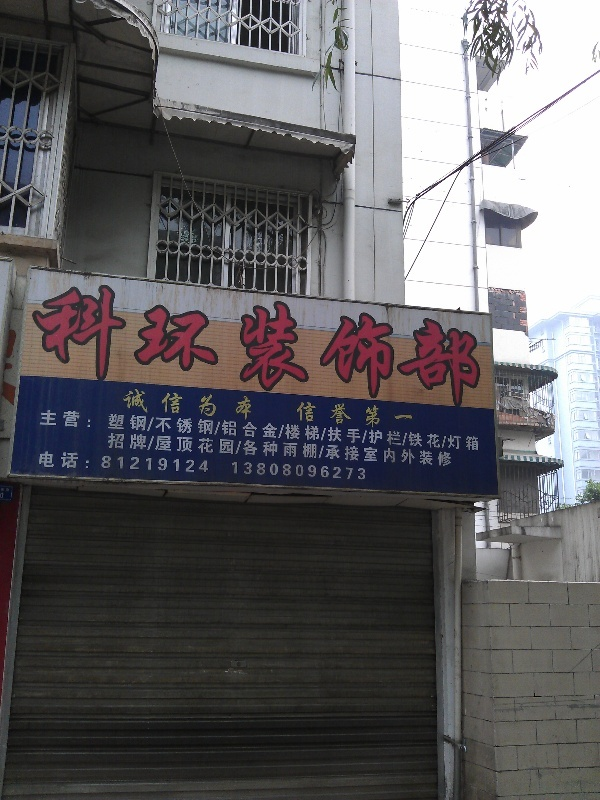text: (465, 277, 481, 410), (49, 277, 64, 410), (65, 277, 80, 410), (81, 277, 96, 410), (97, 277, 112, 410), (113, 277, 128, 410), (129, 277, 144, 410), (145, 277, 160, 410), (161, 277, 176, 410), (177, 277, 192, 410), (193, 277, 208, 410), (209, 277, 224, 410), (225, 277, 240, 410), (241, 277, 256, 410), (257, 277, 272, 410), (273, 277, 288, 410), (289, 277, 304, 410), (305, 277, 320, 410), (321, 277, 336, 410), (337, 277, 352, 410), (353, 277, 368, 410), (369, 277, 384, 410), (385, 277, 400, 410), (401, 277, 416, 410), (417, 277, 432, 410), (433, 277, 448, 410), (449, 277, 464, 410), (36, 277, 48, 410), (4, 328, 16, 409), (49, 408, 64, 453), (65, 408, 80, 453), (81, 408, 96, 453), (97, 408, 112, 453), (113, 408, 128, 453), (129, 408, 144, 453), (145, 408, 160, 453), (161, 408, 176, 453), (177, 408, 192, 453), (193, 408, 208, 453), (209, 408, 224, 453), (225, 408, 240, 453), (241, 408, 256, 453), (257, 408, 272, 453), (273, 408, 288, 453), (289, 408, 304, 453), (305, 408, 320, 453), (321, 408, 336, 453), (337, 408, 352, 453), (353, 408, 368, 453), (369, 408, 384, 453), (385, 408, 400, 453), (401, 408, 416, 453), (417, 408, 432, 453), (433, 408, 448, 453), (449, 408, 464, 453), (465, 408, 479, 453), (113, 431, 128, 469), (129, 431, 144, 469), (145, 431, 160, 469), (161, 431, 176, 469), (177, 431, 192, 469), (193, 431, 208, 469), (209, 431, 224, 469), (225, 431, 240, 469), (241, 431, 256, 469), (257, 431, 272, 469), (273, 431, 288, 469), (289, 431, 304, 469), (305, 431, 320, 469), (321, 431, 336, 469), (337, 431, 352, 469), (353, 431, 368, 469), (369, 431, 384, 469), (385, 431, 400, 469), (401, 431, 416, 469), (417, 431, 432, 469), (433, 431, 448, 469), (129, 388, 144, 421), (145, 388, 160, 421), (161, 388, 176, 421), (177, 388, 192, 421), (193, 388, 208, 421), (209, 388, 224, 421), (225, 388, 240, 421), (305, 400, 320, 430), (321, 400, 336, 430), (337, 400, 352, 430), (353, 400, 368, 430), (369, 400, 384, 430), (385, 400, 400, 430), (241, 388, 254, 421), (401, 400, 415, 430), (40, 408, 48, 453), (49, 451, 64, 475), (65, 451, 80, 475), (81, 451, 96, 475), (97, 451, 112, 475), (113, 451, 128, 475), (129, 451, 144, 475), (145, 451, 160, 475), (161, 451, 176, 475), (177, 451, 192, 475), (193, 451, 208, 475), (241, 460, 256, 482), (257, 460, 272, 482), (273, 460, 288, 482), (289, 460, 304, 482), (305, 460, 320, 482), (321, 460, 336, 482), (337, 460, 352, 482), (353, 460, 367, 482), (106, 431, 112, 469), (39, 451, 48, 475), (297, 400, 304, 430), (231, 460, 240, 482), (17, 328, 19, 409), (449, 431, 453, 469), (124, 388, 128, 421), (1, 493, 16, 499), (1, 488, 16, 492), (209, 451, 210, 475)
